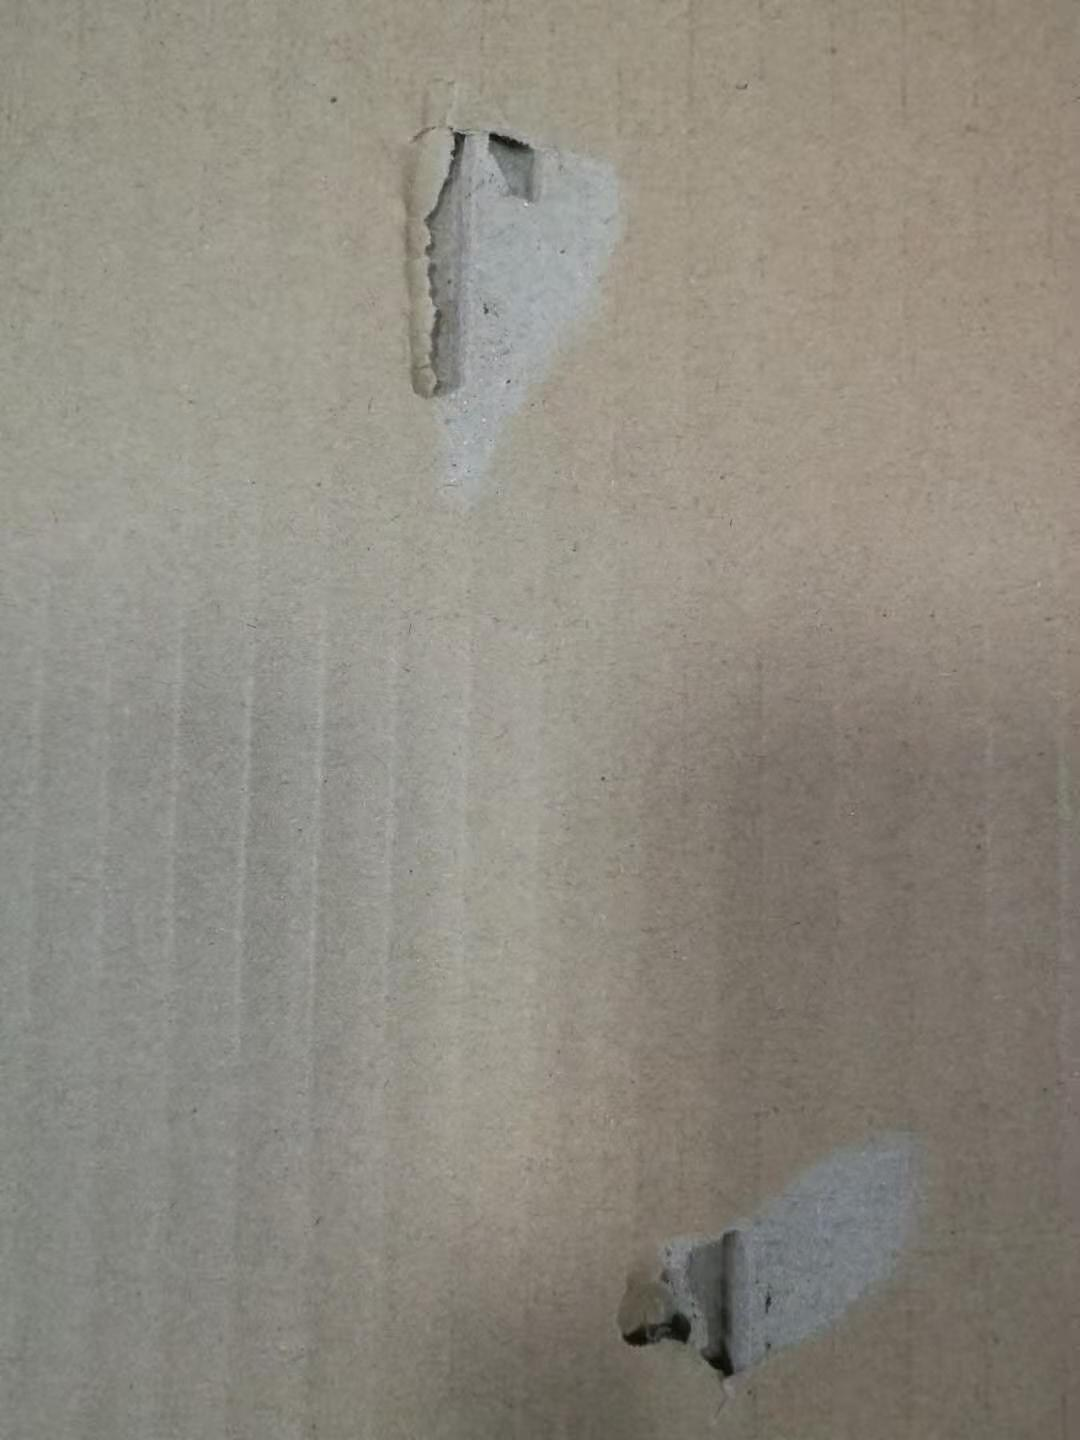defect: (346, 56, 663, 525), (594, 1107, 982, 1412)
